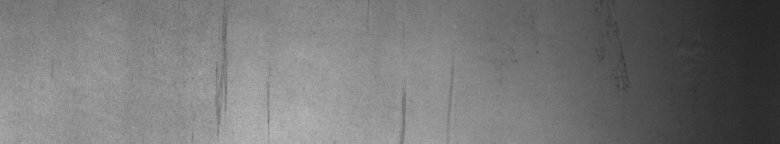ka: (400, 82, 452, 136)
